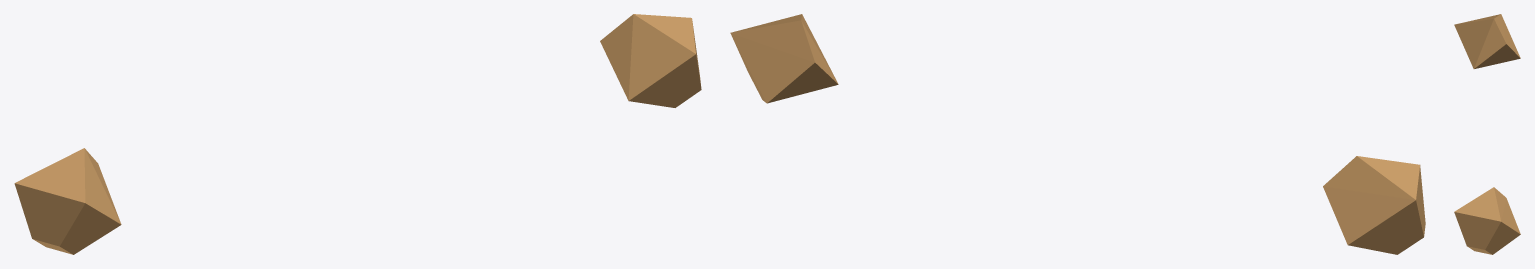
Rendered from SM_Chr_Attach_Earrings_03.fbx.
3 renders of one model, left to right at view 1: azimuth 30°, elevation 25°; view 2: azimuth 150°, elevation 25°; view 3: azimuth 270°, elevation 25°, orthographic. The views are drawn at different scales.
Parts seen in each view (by area): view 1: SM_Chr_Attach_Earrings_03; view 2: SM_Chr_Attach_Earrings_03; view 3: SM_Chr_Attach_Earrings_03.
Part boxes in pixels (left/top/right/bottom): SM_Chr_Attach_Earrings_03: left=14, top=14, right=701, bottom=254; SM_Chr_Attach_Earrings_03: left=730, top=14, right=1425, bottom=254; SM_Chr_Attach_Earrings_03: left=1454, top=14, right=1520, bottom=254.
Size of the model in its own units: 28.04 by 3.53 by 3.81.
